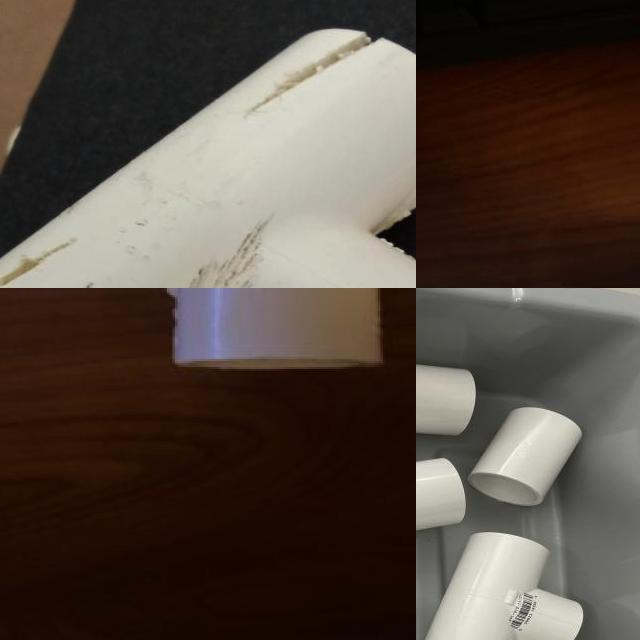L Joint: (166, 288, 385, 373), (416, 458, 468, 531)
T Joint: (425, 532, 587, 640)
